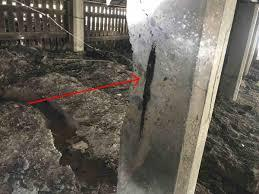exposed_rebar: (140, 45, 156, 136)
spalling: (120, 18, 182, 166)
